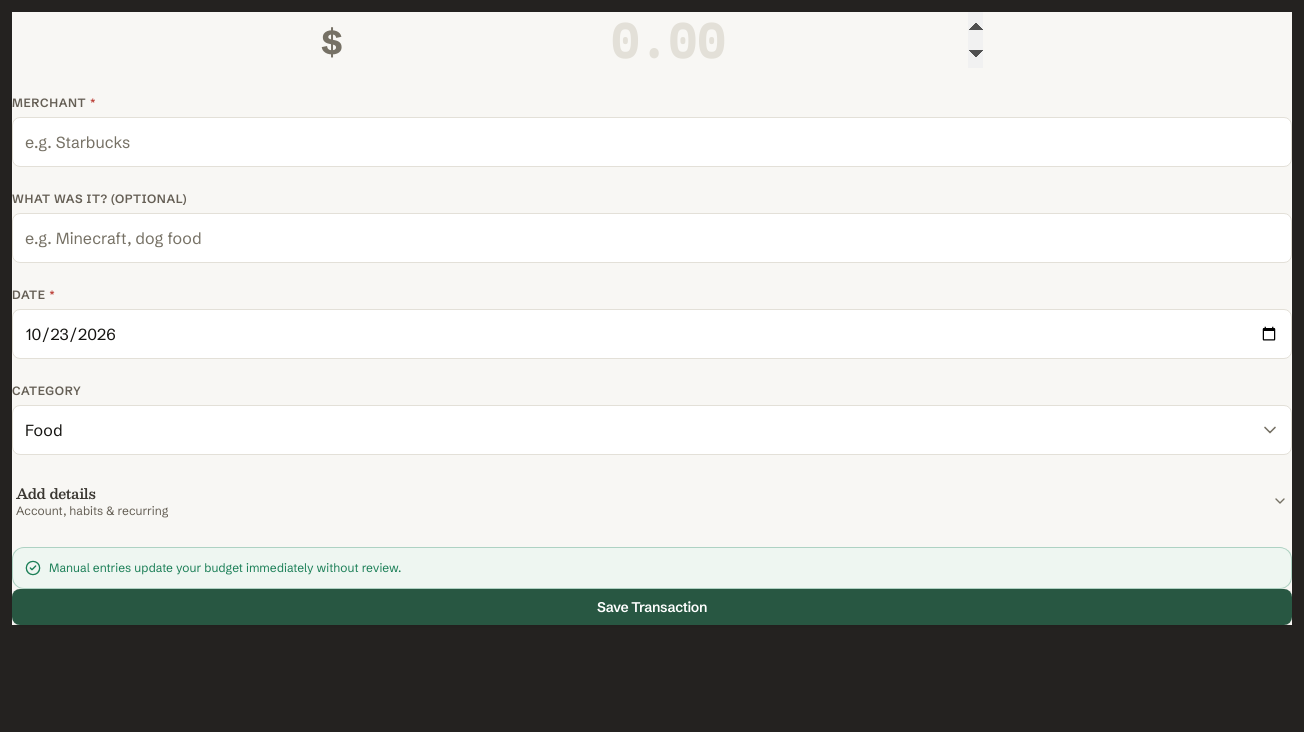
Scenario: CaptureTransactionManual › flags each empty required field with aria-invalid and an aria-describedby message on submit
The width and height of the screenshot is (1304, 732).
Click the button "Save Transaction". click: (652, 607)
box: [12,589,1292,625]
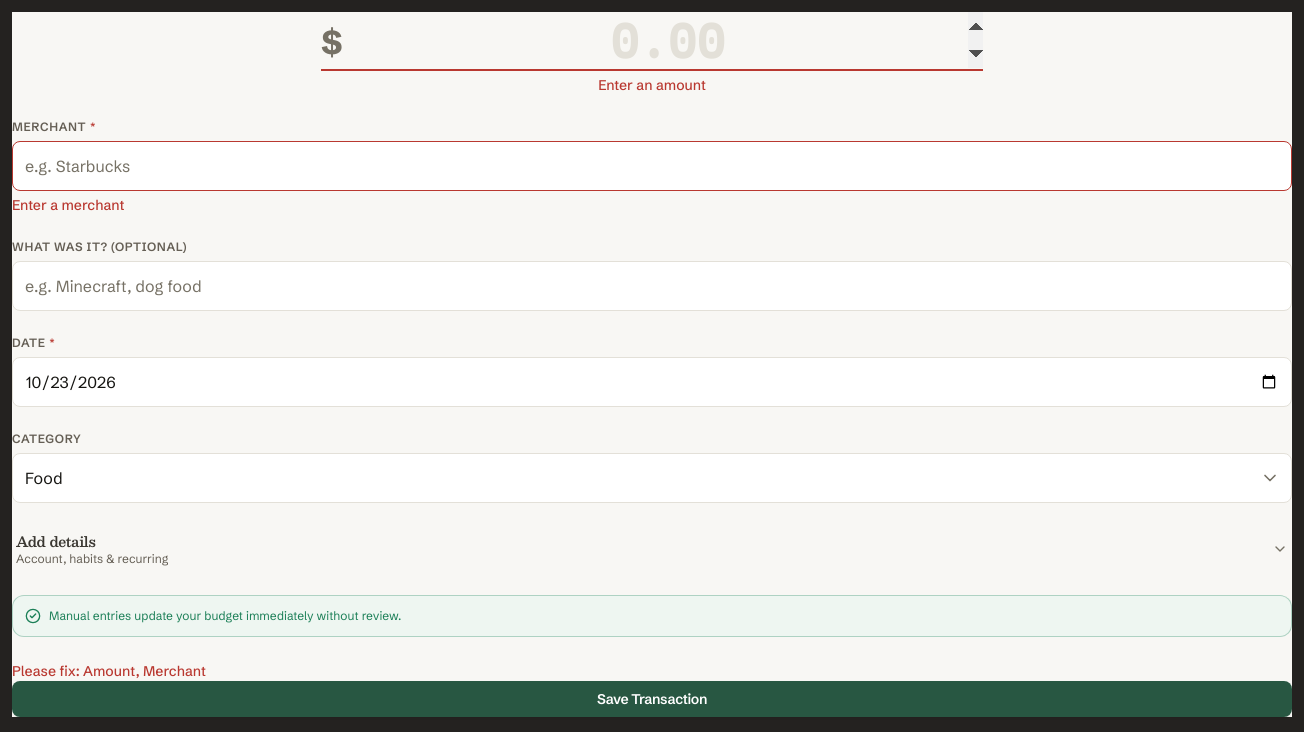
Result: the message reads "Please fix: Amount, Merchant" at [12,662,206,680]
